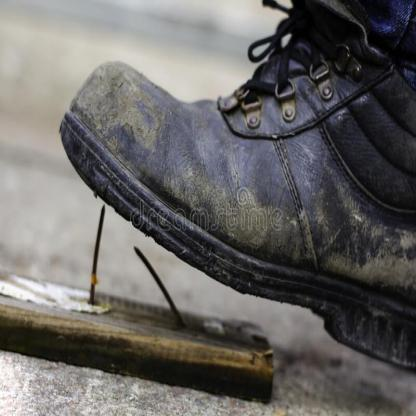bota: (59, 0, 416, 375)
